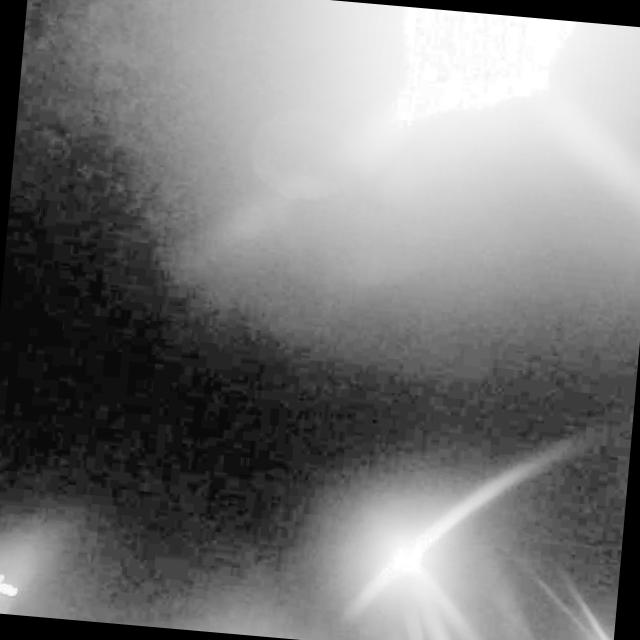Light: (378, 5, 580, 130), (373, 528, 435, 590)
